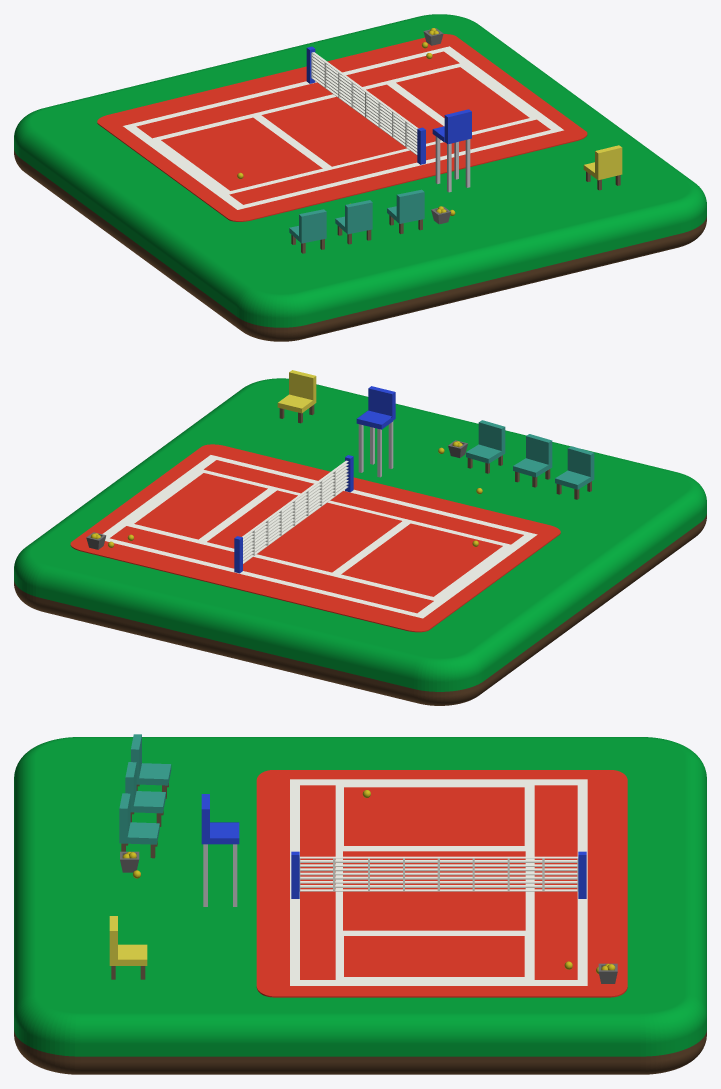
Rendered from islandTennis.glb.
The picture shows the model from 3 angles, top to bottom: view 1: azimuth 30°, elevation 25°; view 2: azimuth 150°, elevation 25°; view 3: azimuth 270°, elevation 25°; orthographic projection. The views are drawn at different scales.
Visible parts, largest first — view 1: Island.004, Tennis, Plane.003, Plane.002, Plane.005, Plane.006, Plane.004; view 2: Island.004, Tennis, Plane.003, Plane.004, Plane.002, Plane.006, Plane.005; view 3: Island.004, Tennis, Plane.003, Plane.006, Plane.002, Plane.005, Plane.004.
Part boxes in pixels (x1,y1,x2,y2): Island.004: (14, 14, 706, 341); Tennis: (97, 28, 587, 224); Plane.003: (432, 109, 471, 192); Plane.002: (583, 145, 622, 190); Plane.005: (335, 200, 372, 244); Plane.006: (387, 189, 424, 234); Plane.004: (289, 209, 326, 253); Island.004: (14, 378, 706, 705); Tennis: (70, 440, 560, 632); Plane.003: (356, 386, 395, 477); Plane.004: (555, 446, 594, 499); Plane.002: (277, 370, 316, 423); Plane.006: (466, 420, 505, 473); Plane.005: (513, 434, 552, 487); Island.004: (14, 737, 706, 1074); Tennis: (120, 770, 627, 997); Plane.003: (201, 794, 239, 906); Plane.006: (119, 793, 159, 858); Plane.002: (109, 916, 147, 979); Plane.005: (125, 762, 165, 826); Plane.004: (131, 734, 171, 798).
Size of the model in its own units: 6 by 1.51 by 6.
